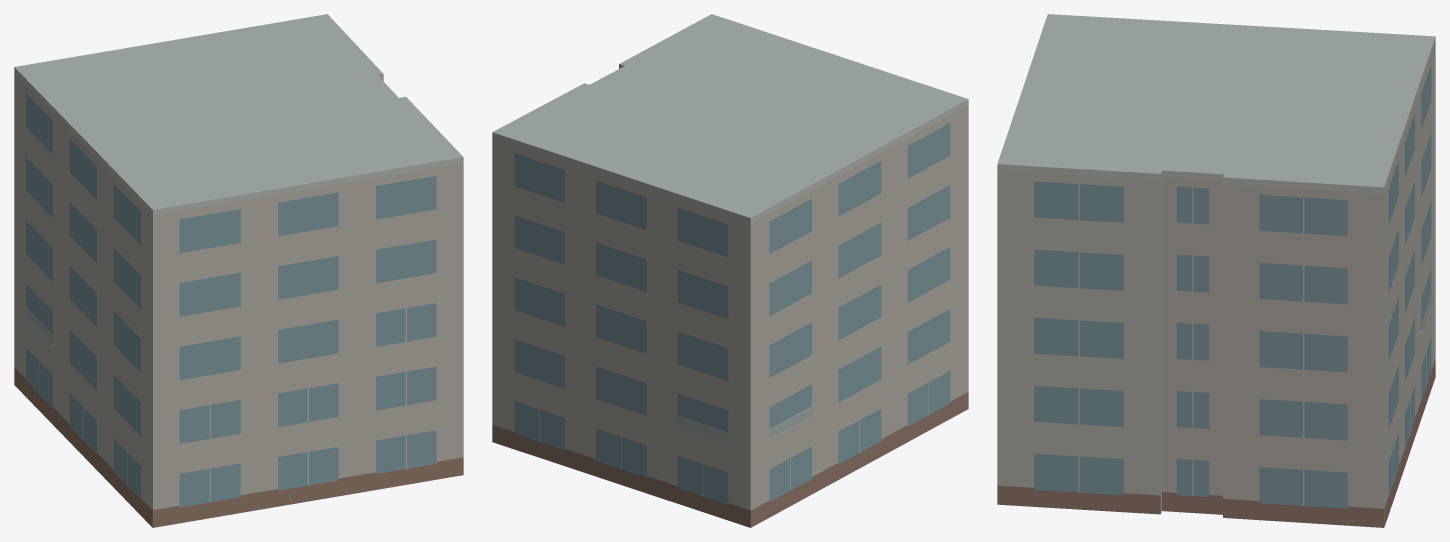
The model's file is survey-upis-32756388.glb.
The picture shows the model from 3 angles, left to right: view 1: azimuth 30°, elevation 25°; view 2: azimuth 150°, elevation 25°; view 3: azimuth 270°, elevation 25°; orthographic projection. The views are drawn at different scales.
Parts seen in each view (by area): view 1: survey-upis-32756388.tmp; view 2: survey-upis-32756388.tmp; view 3: survey-upis-32756388.tmp.
Part boxes in pixels (x1,y1,x2,y2): survey-upis-32756388.tmp: (14,14,463,527); survey-upis-32756388.tmp: (492,14,968,527); survey-upis-32756388.tmp: (997,14,1435,527).
Size of the model in its own units: 15.08 by 13.8 by 16.11.
